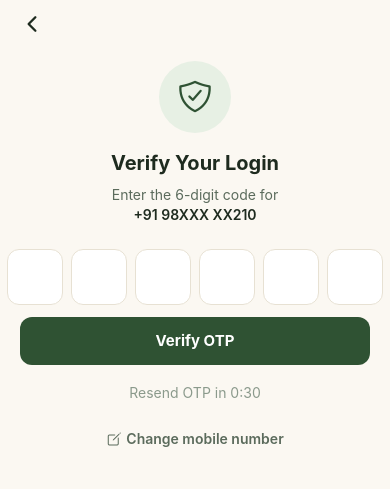
Test: OTPVerificationScreen › shows a validation error and does not verify an incomplete code
Type "1" into the field named "Digit 1 of 6" at x=35, y=277, box [7, 249, 63, 305]
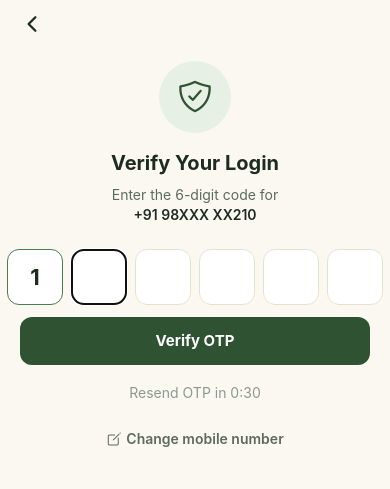
Type "2" into the field named "Digit 2 of 6" at x=99, y=277, box [71, 249, 127, 305]
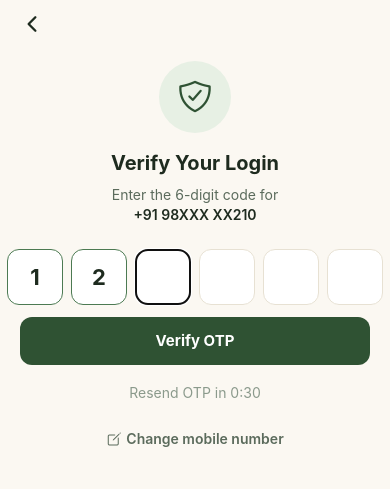
Type "3" into the field named "Digit 3 of 6" at x=163, y=277, box [135, 249, 191, 305]
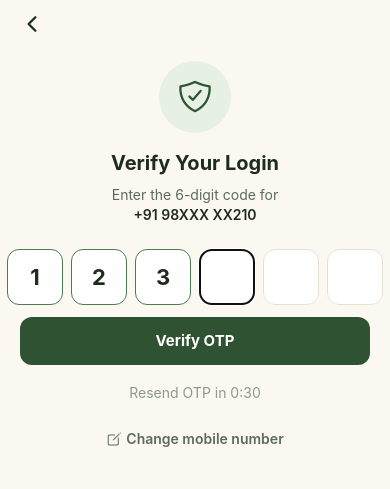
Click the button "Verify OTP" at x=195, y=341, box [20, 317, 370, 365]
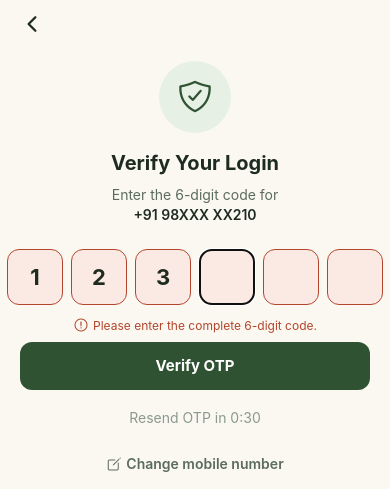
Check: the text "Please enter the complete 6-digit code." is shown, box [93, 318, 317, 334]
